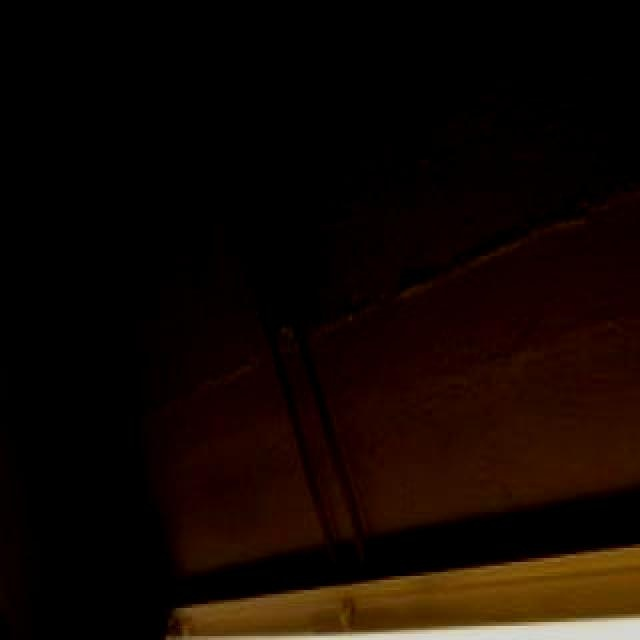fluorescent tube: (142, 582, 640, 640)
